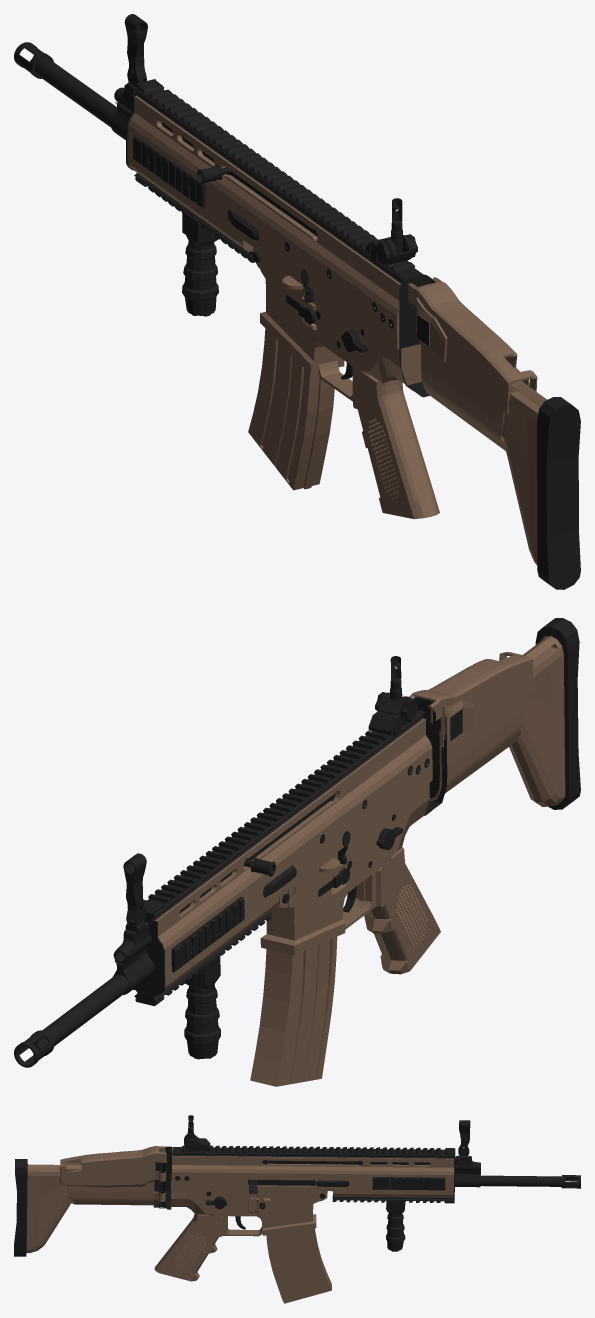
The model's file is FN_Scar1.fbx.
3 renders of one model, top to bottom at view 1: azimuth 30°, elevation 25°; view 2: azimuth 150°, elevation 25°; view 3: azimuth 270°, elevation 25°, orthographic. The views are drawn at different scales.
Visible parts, largest first — view 1: Cube.018; view 2: Cube.018; view 3: Cube.018.
Boxes of the visible parts, <box> form: Cube.018: <box>14,14,580,589</box>; Cube.018: <box>14,618,580,1086</box>; Cube.018: <box>14,1115,580,1303</box>.
Bounding box in the file's own units: 11.29 × 45.51 × 126.
